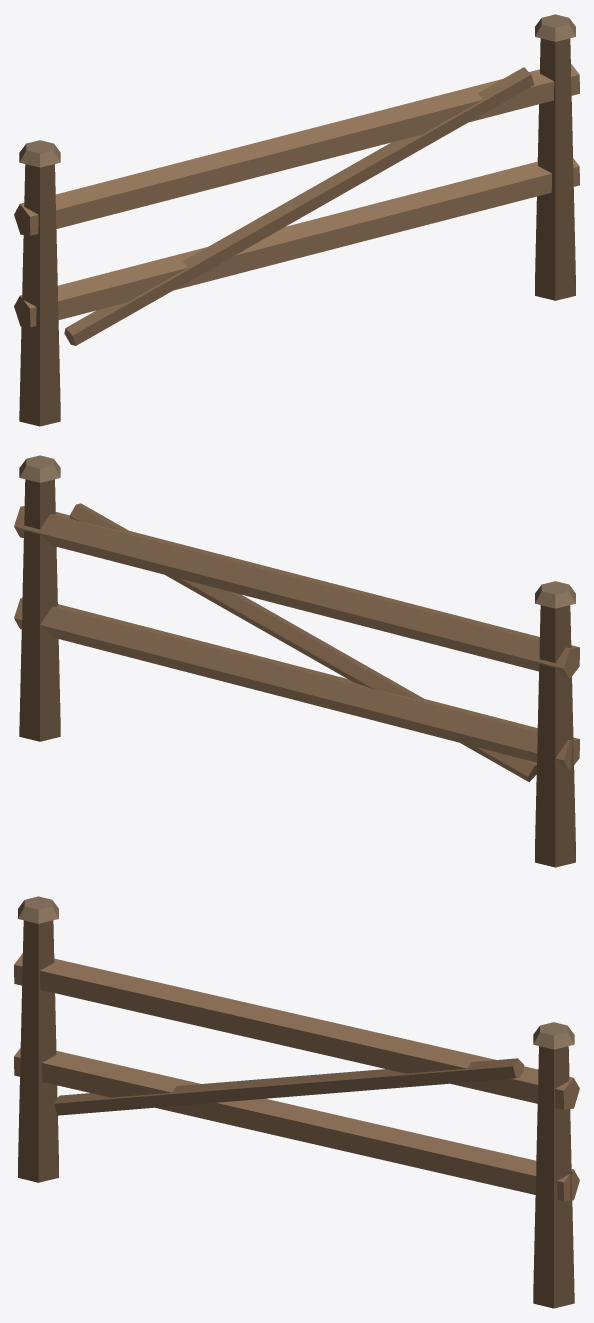
File: splitrail-fence.glb
3 views of the same model, one above another, from view 1: azimuth 30°, elevation 25°; view 2: azimuth 150°, elevation 25°; view 3: azimuth 330°, elevation 25° (orthographic).
Visible parts, largest first — view 1: Split oak rail.001, Split oak rail, Leaning repair brace, Split fence post, Split fence post.001, Cut cap, Cut cap.001; view 2: Split oak rail.001, Split oak rail, Split fence post, Split fence post.001, Leaning repair brace, Cut cap.001, Cut cap; view 3: Split oak rail.001, Split oak rail, Split fence post.001, Split fence post, Leaning repair brace, Cut cap.001, Cut cap.
Part boxes in pixels (x1=…): Split oak rail.001: x1=14, y1=64, x2=579, y2=235; Split oak rail: x1=14, y1=158, x2=579, y2=327; Leaning repair brace: x1=64, y1=67, x2=534, y2=345; Split fence post: x1=19, y1=164, x2=60, y2=426; Split fence post.001: x1=535, y1=38, x2=575, y2=300; Cut cap: x1=19, y1=140, x2=60, y2=167; Cut cap.001: x1=535, y1=14, x2=575, y2=41; Split oak rail.001: x1=14, y1=506, x2=579, y2=679; Split oak rail: x1=14, y1=598, x2=579, y2=770; Split fence post: x1=535, y1=605, x2=575, y2=867; Split fence post.001: x1=19, y1=479, x2=60, y2=741; Leaning repair brace: x1=69, y1=503, x2=536, y2=782; Cut cap.001: x1=19, y1=455, x2=60, y2=482; Cut cap: x1=535, y1=581, x2=575, y2=608; Split oak rail.001: x1=14, y1=953, x2=579, y2=1109; Split oak rail: x1=14, y1=1048, x2=579, y2=1201; Split fence post.001: x1=533, y1=1046, x2=574, y2=1308; Split fence post: x1=18, y1=920, x2=58, y2=1182; Leaning repair brace: x1=54, y1=1058, x2=524, y2=1115; Cut cap.001: x1=533, y1=1022, x2=574, y2=1049; Cut cap: x1=18, y1=896, x2=58, y2=923.
Bounding box in the file's own units: 3.24 × 1.5 × 0.2078.
